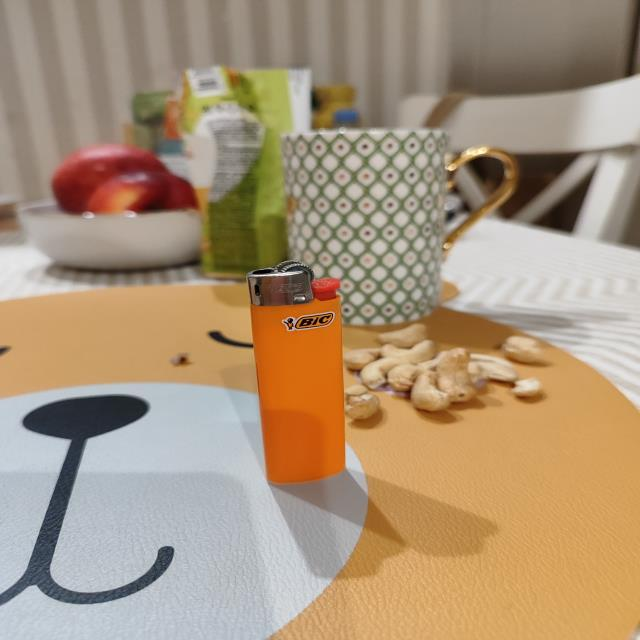lighter: (248, 262, 344, 484)
